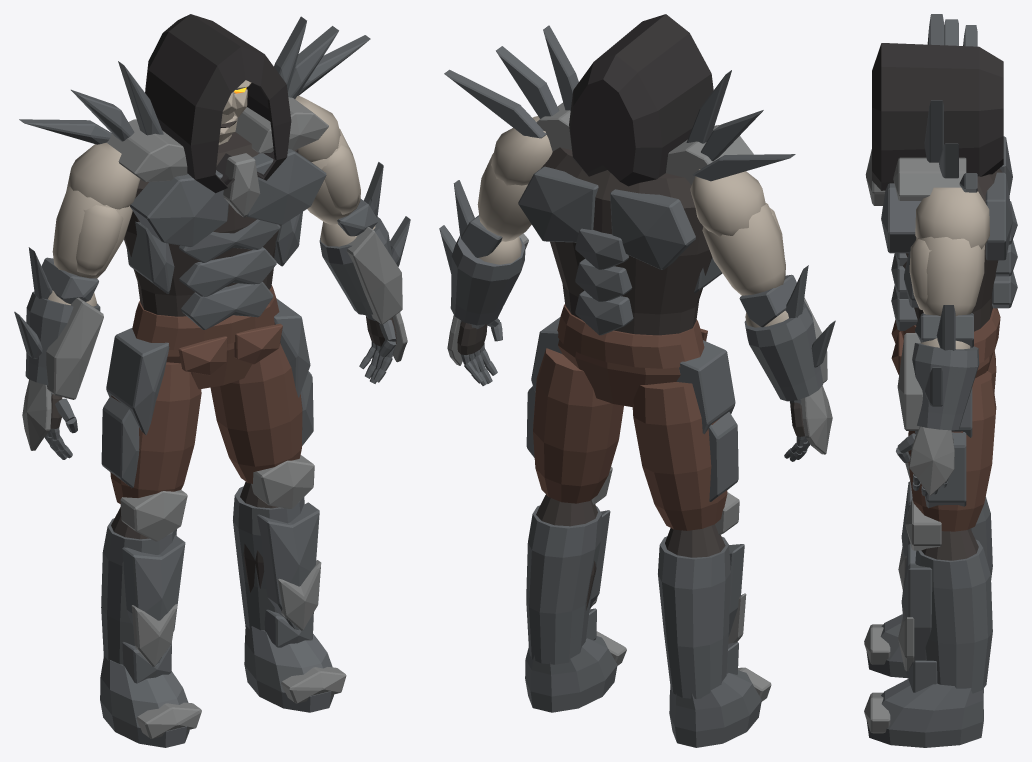
Rendered from hound-blockout.gltf.
The picture shows the model from 3 angles, left to right: view 1: azimuth 30°, elevation 25°; view 2: azimuth 150°, elevation 25°; view 3: azimuth 270°, elevation 25°; orthographic projection. The views are drawn at different scales.
Visible parts, largest first — view 1: H02_Thigh_cloth_L, H02_Hood_shell, H02_Hood_opening_rim, H02_Thigh_cloth_R, H02_Breastplate_R, H02_Boot_R, H02_Boot_L, H02_Torso_underlayer, H02_Greave_front_L, H02_Hip_guard_R, H02_Greave_mass_R, H02_Greave_front_R (+45 smaller); view 2: H02_Hood_shell, H02_Torso_underlayer, H02_Thigh_cloth_L, H02_Thigh_cloth_R, H02_Greave_mass_R, H02_Greave_mass_L, H02_Scapula_L, H02_Boot_R, H02_Waist_sash, H02_Boot_L, H02_Upper_arm_R, H02_Bracer_mass_R (+29 smaller); view 3: H02_Hood_shell, H02_Greave_mass_L, H02_Boot_L, H02_Thigh_cloth_L, H02_Upper_arm_L, H02_Bracer_mass_L, H02_Deltoid_L, H02_Hand_back_full_point_L, H02_Greave_front_L, H02_Collar_plate_L, H02_Breastplate_L, H02_Scapula_R (+33 smaller).
Boxes of the visible parts, <box> form: H02_Thigh_cloth_L: <box>210,342,302,483</box>; H02_Hood_shell: <box>145,14,274,182</box>; H02_Hood_opening_rim: <box>191,47,291,193</box>; H02_Thigh_cloth_R: <box>110,362,201,503</box>; H02_Breastplate_R: <box>130,170,228,246</box>; H02_Boot_R: <box>100,656,189,747</box>; H02_Boot_L: <box>244,625,333,712</box>; H02_Torso_underlayer: <box>124,132,298,316</box>; H02_Greave_front_L: <box>257,502,319,630</box>; H02_Hip_guard_R: <box>106,328,169,434</box>; H02_Greave_mass_R: <box>101,518,176,664</box>; H02_Greave_front_R: <box>122,535,185,664</box>; H02_Hood_shell: <box>569,14,713,186</box>; H02_Torso_underlayer: <box>541,147,712,335</box>; H02_Thigh_cloth_L: <box>533,348,623,503</box>; H02_Thigh_cloth_R: <box>632,382,727,530</box>; H02_Greave_mass_R: <box>658,536,730,699</box>; H02_Greave_mass_L: <box>526,505,601,664</box>; H02_Scapula_L: <box>610,189,695,269</box>; H02_Boot_R: <box>669,670,761,747</box>; H02_Waist_sash: <box>557,304,704,368</box>; H02_Boot_L: <box>525,636,617,712</box>; H02_Upper_arm_R: <box>702,203,785,295</box>; H02_Bracer_mass_R: <box>744,301,823,401</box>; H02_Hood_shell: <box>881,43,1003,190</box>; H02_Greave_mass_L: <box>915,539,992,693</box>; H02_Boot_L: <box>866,679,984,747</box>; H02_Thigh_cloth_L: <box>908,371,996,531</box>; H02_Upper_arm_L: <box>916,236,984,316</box>; H02_Bracer_mass_L: <box>912,343,979,430</box>; H02_Deltoid_L: <box>915,187,989,249</box>; H02_Hand_back_full_point_L: <box>909,426,954,495</box>; H02_Greave_front_L: <box>901,544,932,660</box>; H02_Collar_plate_L: <box>893,157,966,200</box>; H02_Breastplate_L: <box>881,183,921,253</box>; H02_Scapula_R: <box>985,172,1012,260</box>.
Size of the model in its own units: 1.09 by 1.8 by 0.3821.
